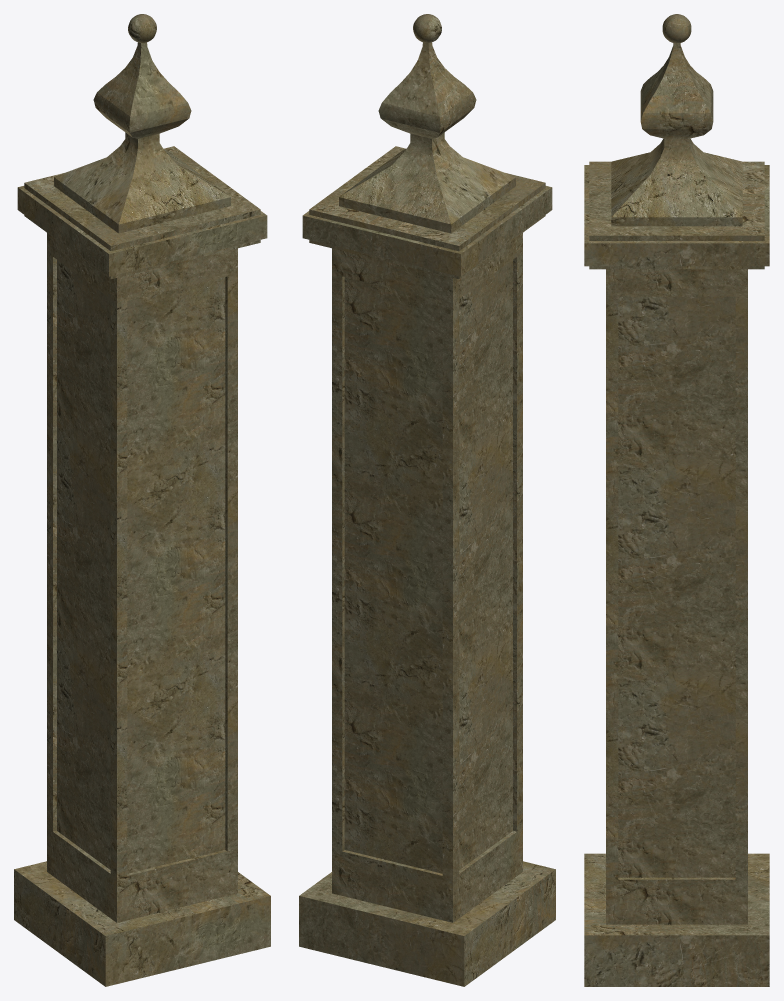
File: fbxColumn.fbx
3 renders of one model, left to right at view 1: azimuth 30°, elevation 25°; view 2: azimuth 150°, elevation 25°; view 3: azimuth 270°, elevation 25°, orthographic.
Parts seen in each view (by area): view 1: Column; view 2: Column; view 3: Column.
Boxes of the visible parts, x1,y1,x2,y2 form: Column: (14, 14, 270, 986); Column: (299, 14, 555, 986); Column: (584, 14, 769, 986).
Size of the model in its own units: 1.46 by 7.75 by 1.4.
1 material, 1 textured.
